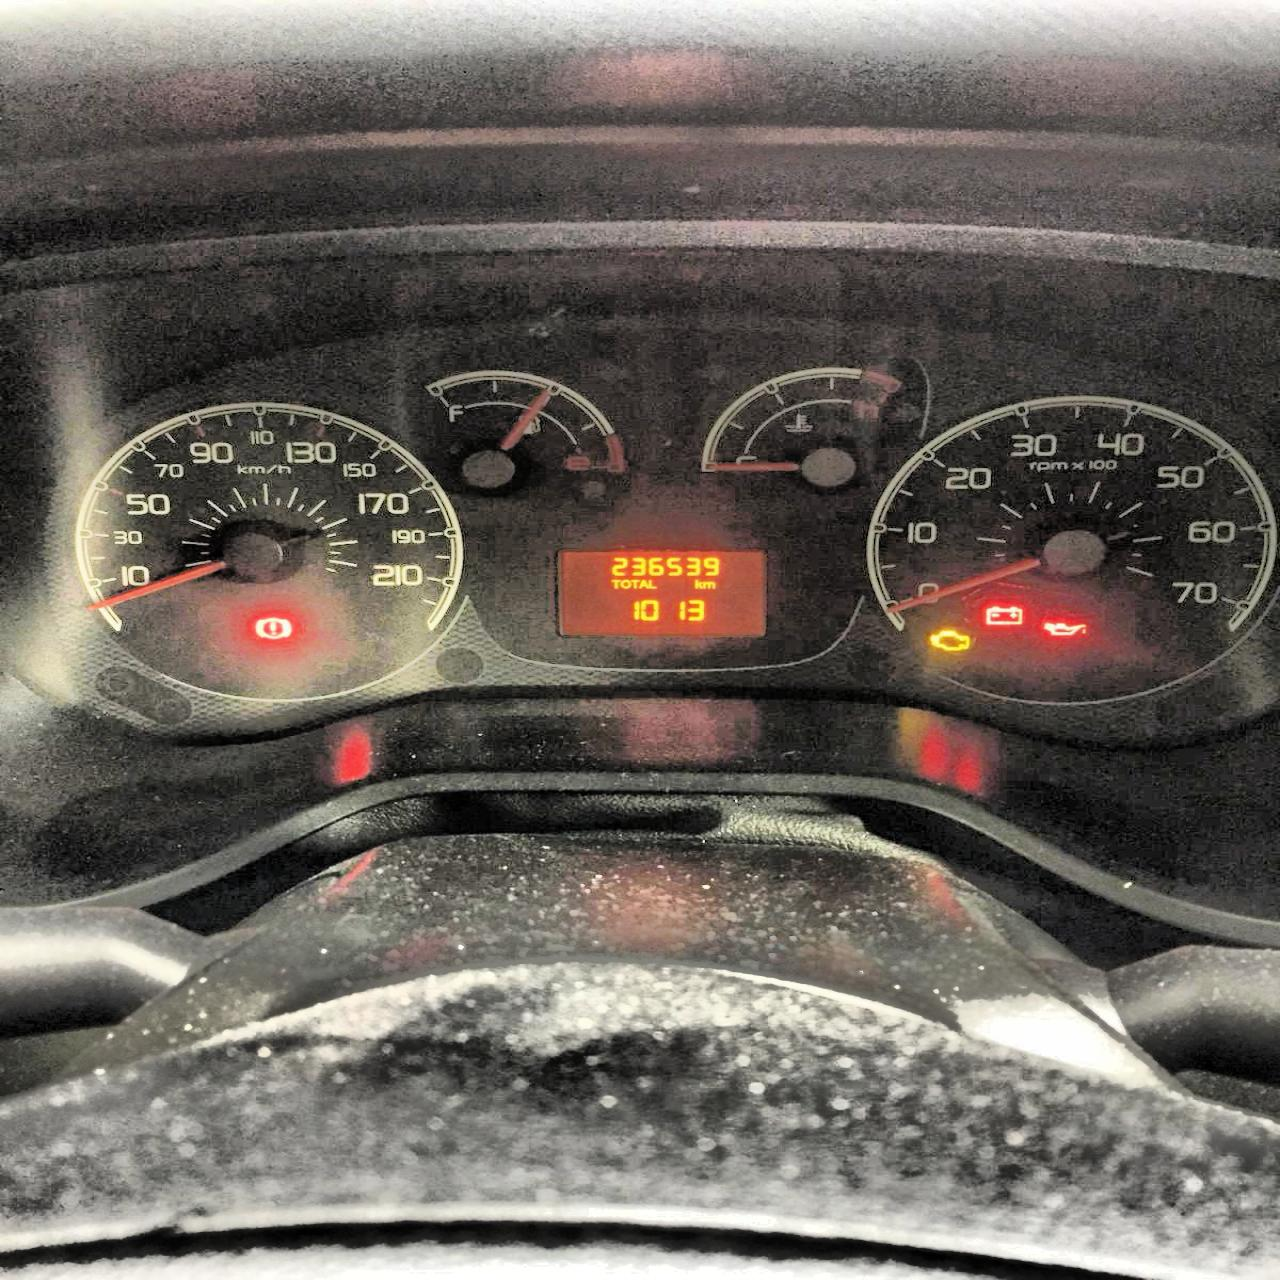0: (639, 598, 658, 621)
1: (676, 598, 688, 620), (632, 598, 640, 620)
2: (613, 556, 629, 576)
3: (688, 597, 704, 621), (685, 556, 701, 576), (631, 556, 646, 576)
5: (666, 554, 681, 576)
6: (647, 554, 665, 576)
9: (702, 556, 721, 577)
X: (702, 580, 716, 588), (620, 578, 631, 588), (611, 578, 620, 588), (631, 578, 640, 588), (648, 578, 658, 588), (693, 578, 701, 588), (639, 578, 647, 588)
odometer: (556, 547, 765, 634)
